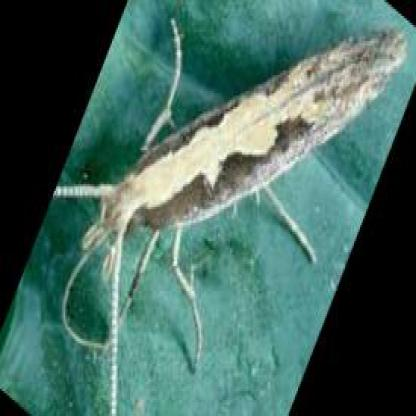plutella: (52, 19, 409, 414)
